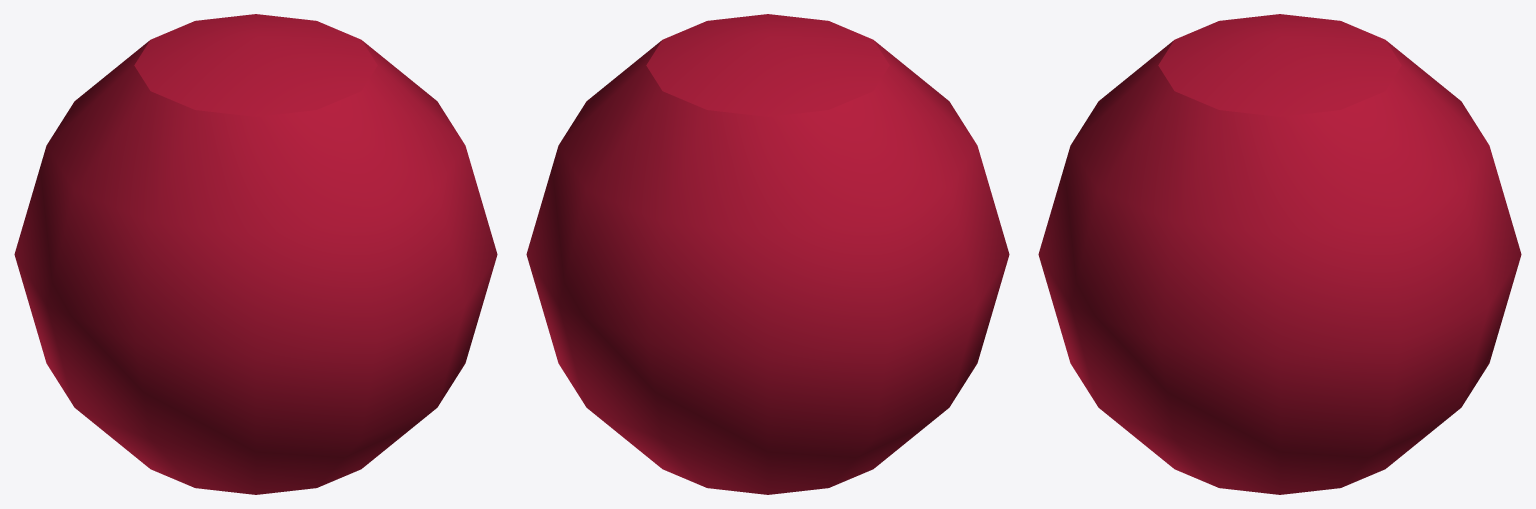
3 renders of one model, left to right at view 1: azimuth 30°, elevation 25°; view 2: azimuth 150°, elevation 25°; view 3: azimuth 270°, elevation 25°, orthographic.
Parts seen in each view (by area): view 1: Rocket; view 2: Rocket; view 3: Rocket.
Boxes of the visible parts, x1=… form: Rocket: x1=14, y1=14, x2=497, y2=494; Rocket: x1=526, y1=14, x2=1009, y2=494; Rocket: x1=1038, y1=14, x2=1521, y2=494.
Bounding box in the file's own units: 0.3499 × 0.3499 × 0.3499.
1 material, 1 textured.
